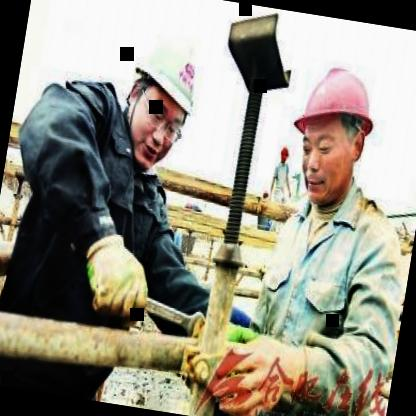helmet: (272, 47, 392, 216), (107, 13, 218, 180)
